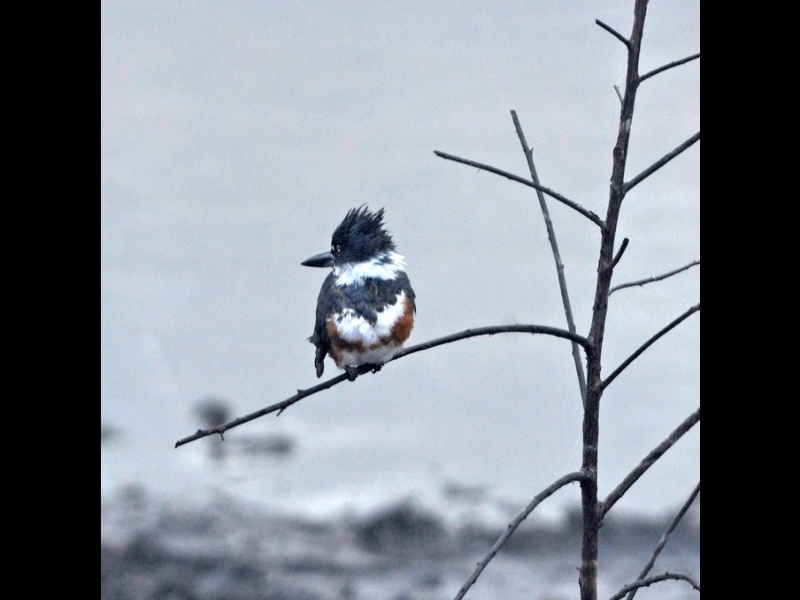kingfisher: (300, 206, 417, 379)
